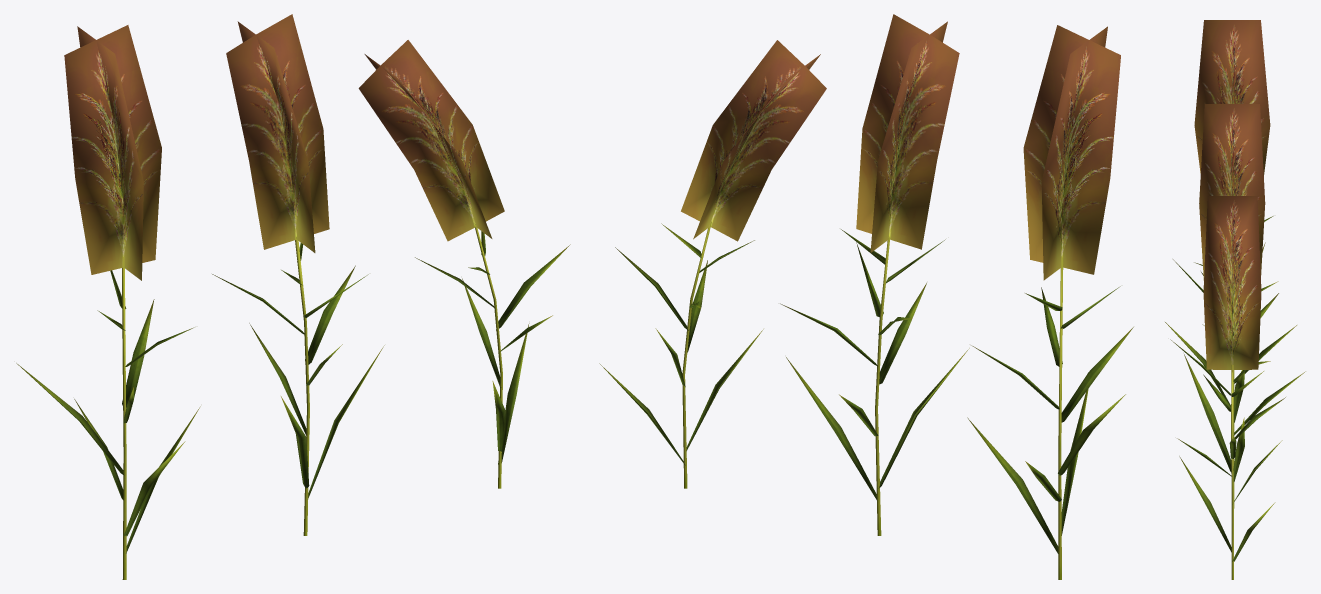
The model's file is reed_m.FBX.
3 renders of one model, left to right at view 1: azimuth 30°, elevation 25°; view 2: azimuth 150°, elevation 25°; view 3: azimuth 270°, elevation 25°, orthographic. The views are drawn at different scales.
Parts seen in each view (by area): view 1: reed_003, reed_004, reed_005; view 2: reed_003, reed_004, reed_005; view 3: reed_005, reed_004, reed_003.
Boxes of the visible parts, box(x1,y1,x2,y2) form: reed_003: box(16, 25, 200, 579); reed_004: box(212, 14, 384, 535); reed_005: box(358, 40, 570, 488); reed_003: box(967, 25, 1133, 579); reed_004: box(780, 14, 969, 535); reed_005: box(599, 40, 826, 488); reed_005: box(1177, 196, 1285, 579); reed_004: box(1170, 104, 1305, 508); reed_003: box(1165, 20, 1296, 432).
Bounding box in the file's own units: 77.01 × 76.14 × 23.8.
